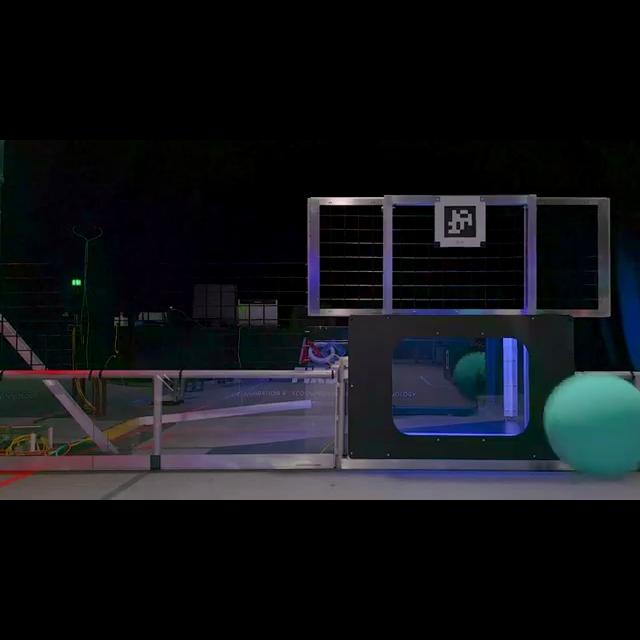ALGAE: (542, 370, 638, 478)
